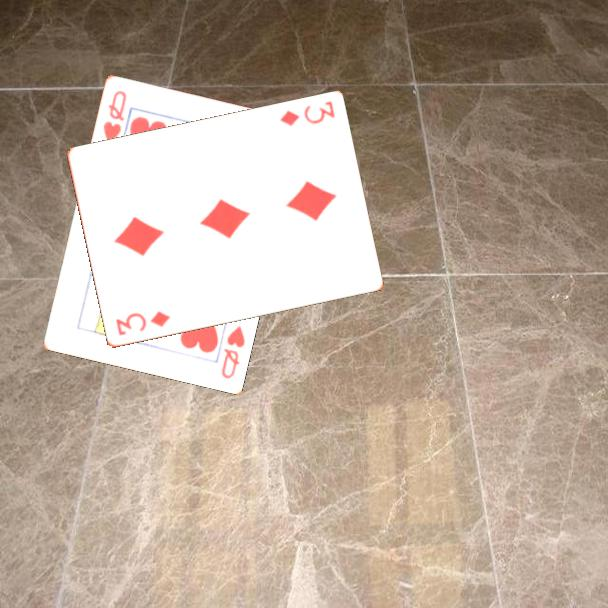d03: (276, 98, 337, 130), (112, 308, 172, 339)
h12: (217, 321, 248, 381), (99, 86, 129, 146)
